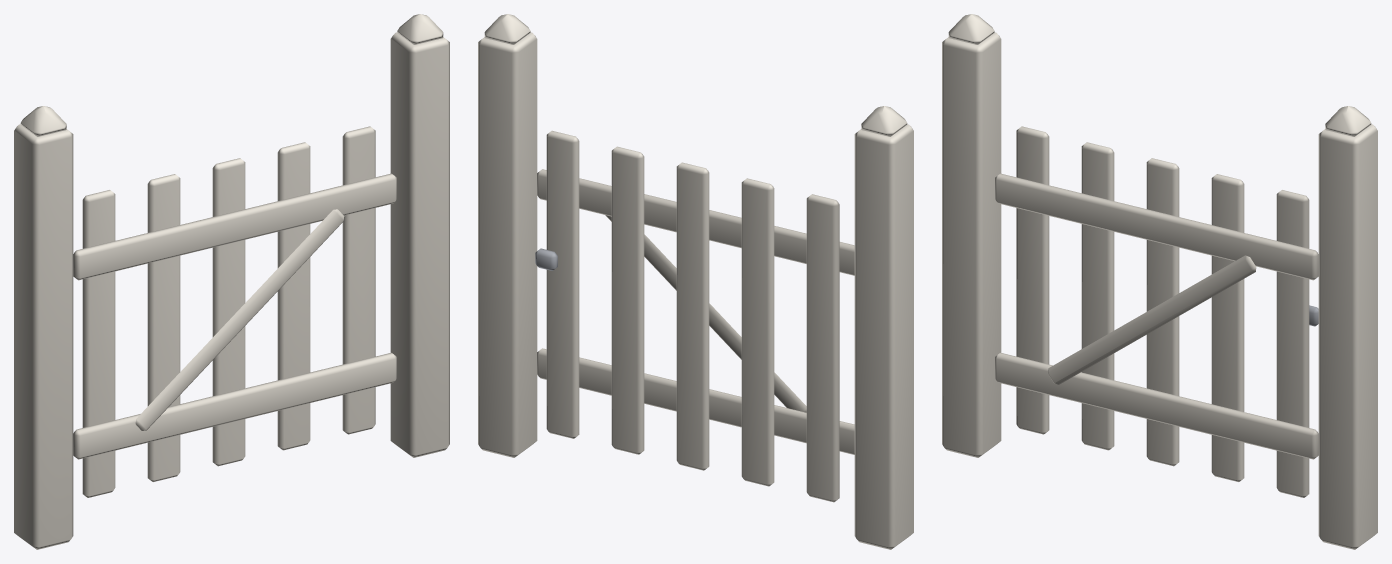
The model's file is gate.glb.
The picture shows the model from 3 angles, left to right: view 1: azimuth 30°, elevation 25°; view 2: azimuth 150°, elevation 25°; view 3: azimuth 330°, elevation 25°; orthographic projection.
Parts seen in each view (by area): view 1: Gate, Body; view 2: Gate, Body; view 3: Gate, Body.
Part boxes in pixels (x1,y1,x2,y2): Gate: (73, 126, 396, 497); Body: (14, 14, 449, 549); Gate: (535, 130, 854, 502); Body: (478, 14, 913, 549); Gate: (995, 126, 1318, 497); Body: (942, 14, 1377, 549).
Size of the model in its own units: 1.22 by 1.21 by 0.12.
1 material, 1 textured.
